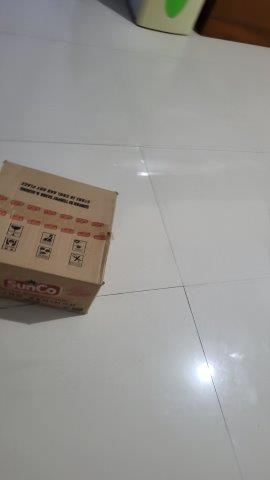kardus: (1, 158, 117, 314)
